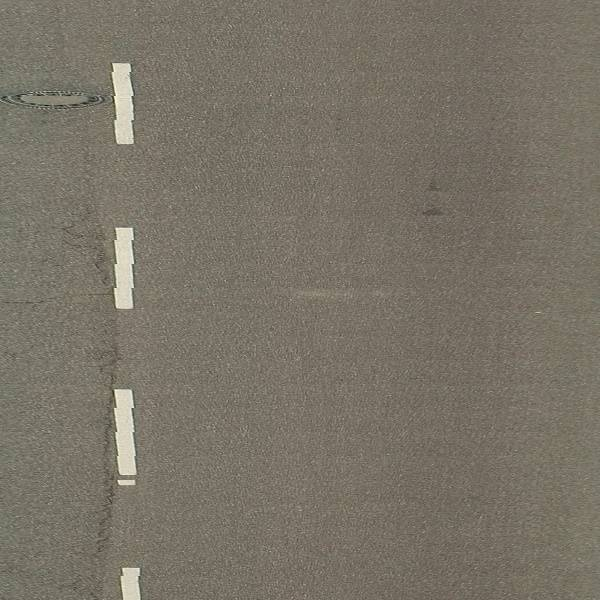road_damage: (80, 229, 117, 565)
